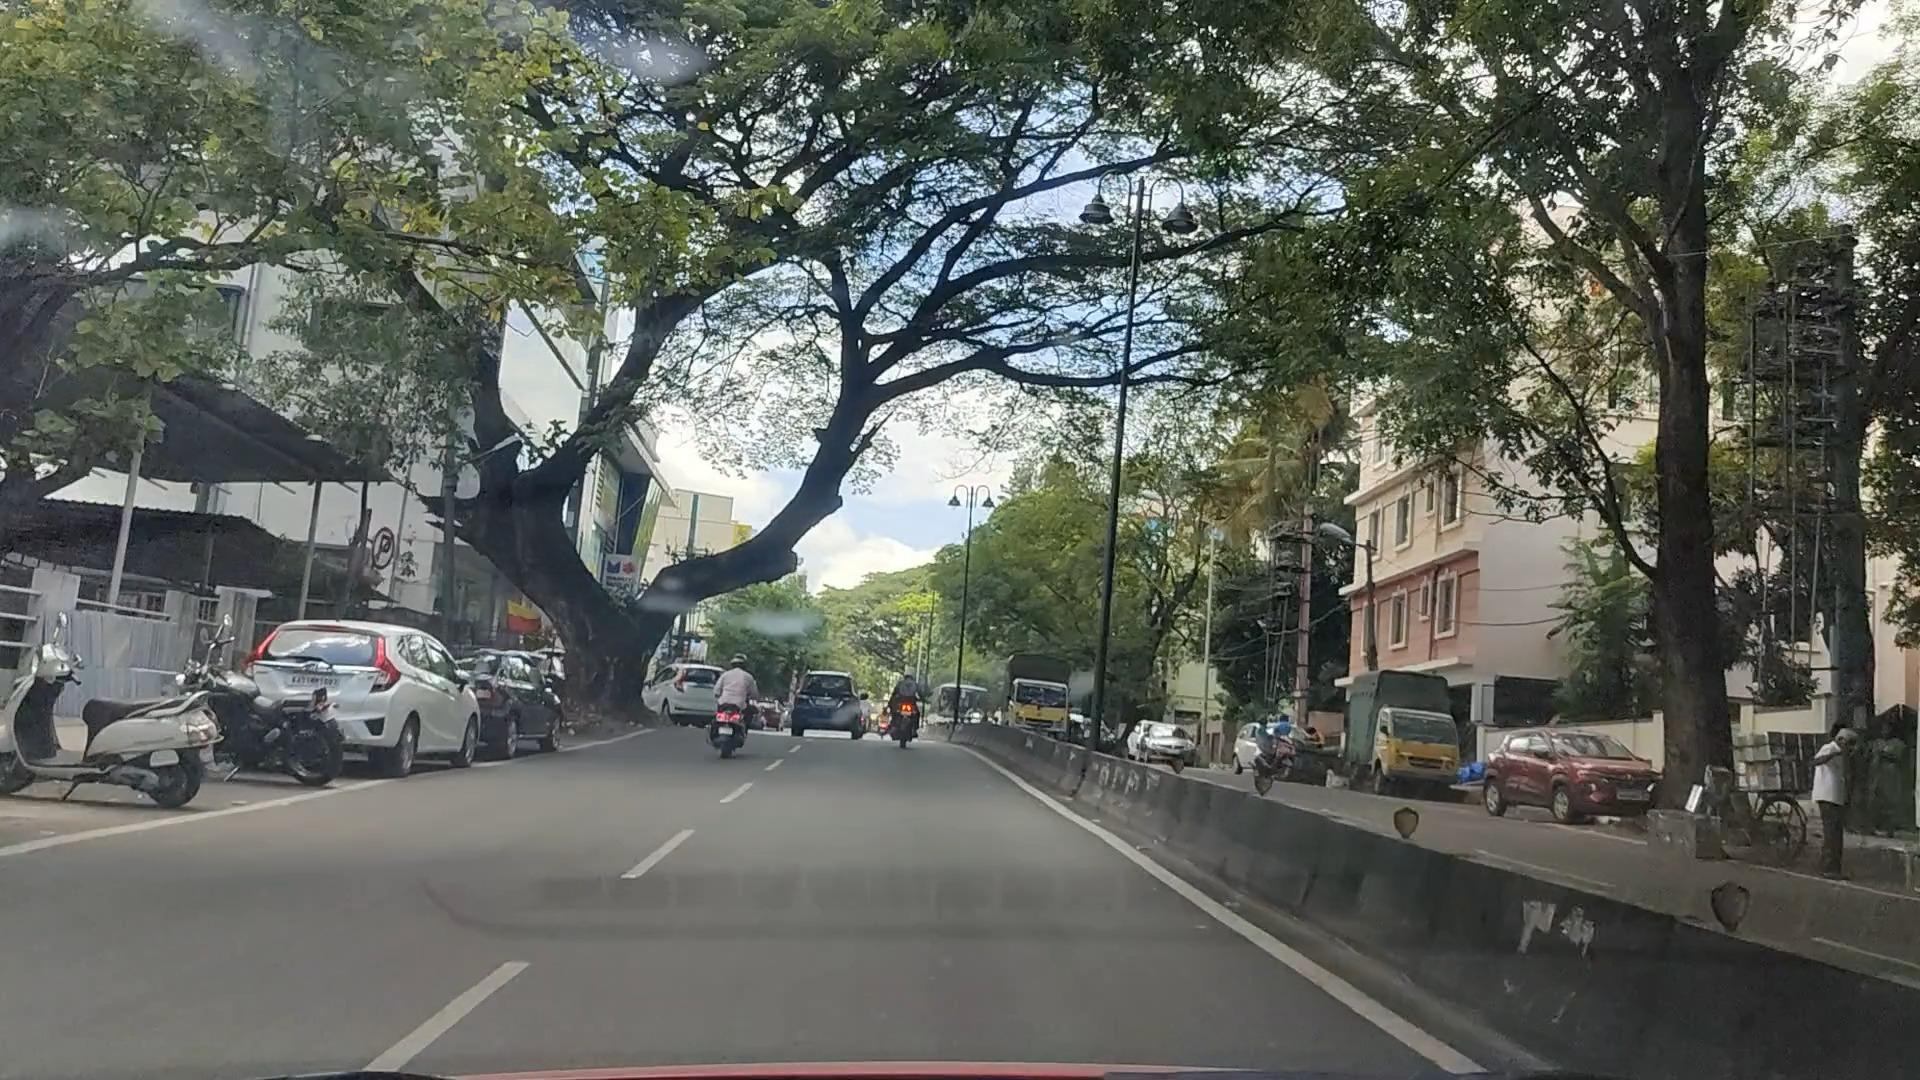LMV: (30, 641, 225, 831), (281, 608, 485, 778)
